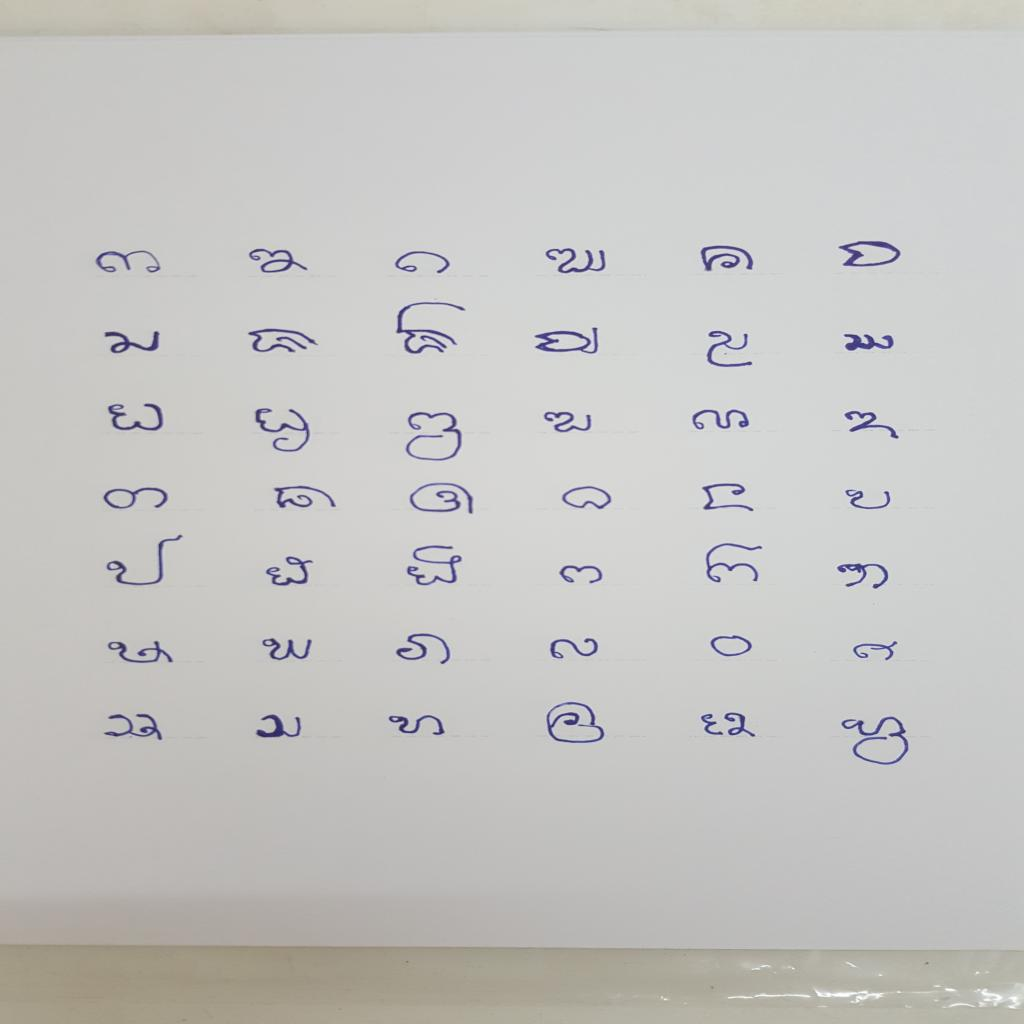LN001: (90, 247, 170, 278)
LN002: (241, 246, 317, 278)
LN003: (391, 249, 456, 278)
LN004: (540, 246, 612, 278)
LN005: (694, 243, 761, 276)
LN007: (97, 327, 167, 360)
LN008: (240, 326, 326, 359)
LN009: (391, 299, 473, 360)
LN010: (530, 325, 606, 358)
LN013: (102, 400, 173, 435)
LN015: (399, 410, 470, 465)
LN016: (538, 410, 598, 436)
LN017: (686, 408, 757, 433)
LN018: (836, 408, 905, 443)
LN019: (99, 486, 174, 513)
LN021: (405, 481, 480, 520)
LN022: (558, 484, 618, 514)
LN024: (838, 487, 898, 513)
LN025: (105, 532, 189, 590)
LN026: (262, 554, 322, 591)
LN027: (401, 544, 469, 590)
LN028: (557, 564, 608, 589)
LN029: (701, 541, 770, 588)
LN031: (101, 638, 181, 668)
LN032: (257, 636, 318, 664)
LN033: (391, 630, 458, 669)
LN034: (544, 636, 607, 663)
LN035: (704, 632, 758, 661)
LN036: (847, 639, 903, 665)
LN037: (95, 711, 170, 744)
LN039: (383, 712, 451, 741)
LN041: (694, 710, 763, 743)
